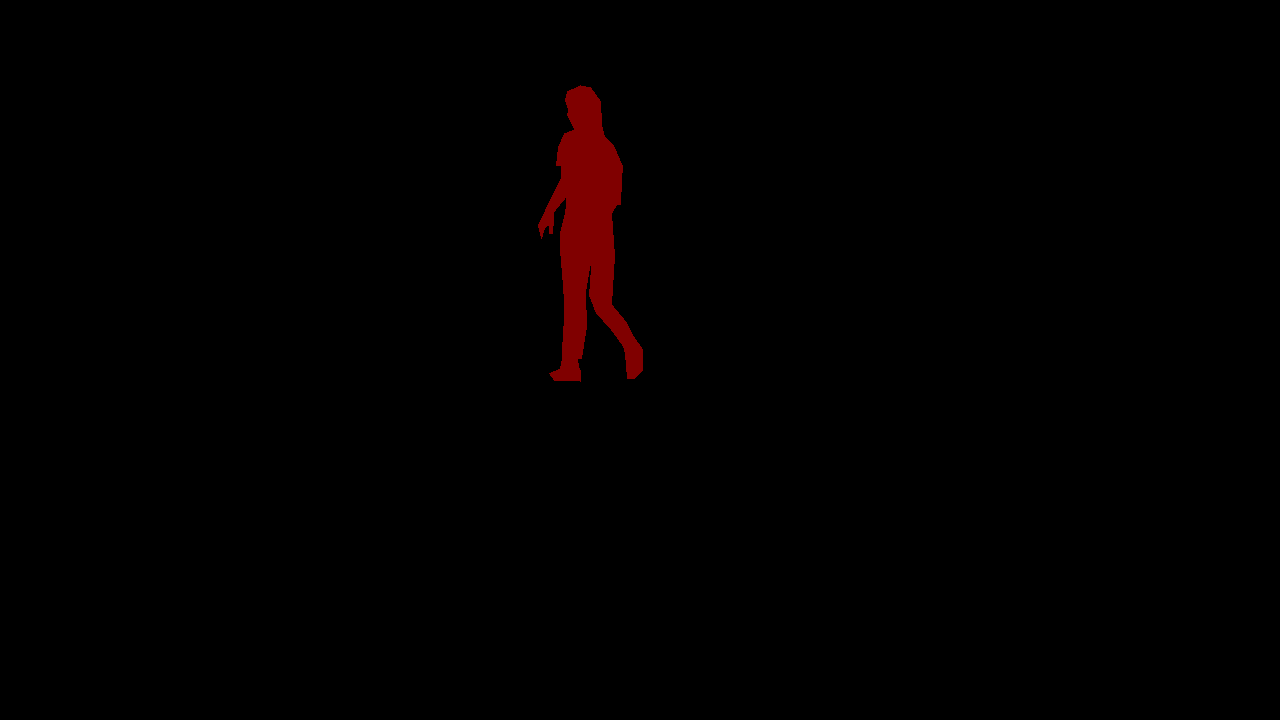person: (538, 85, 642, 381)
